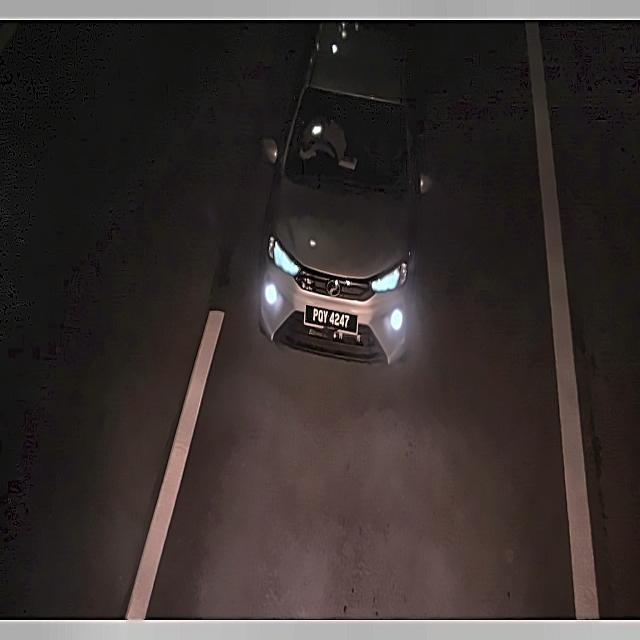car: (301, 298, 369, 344)
